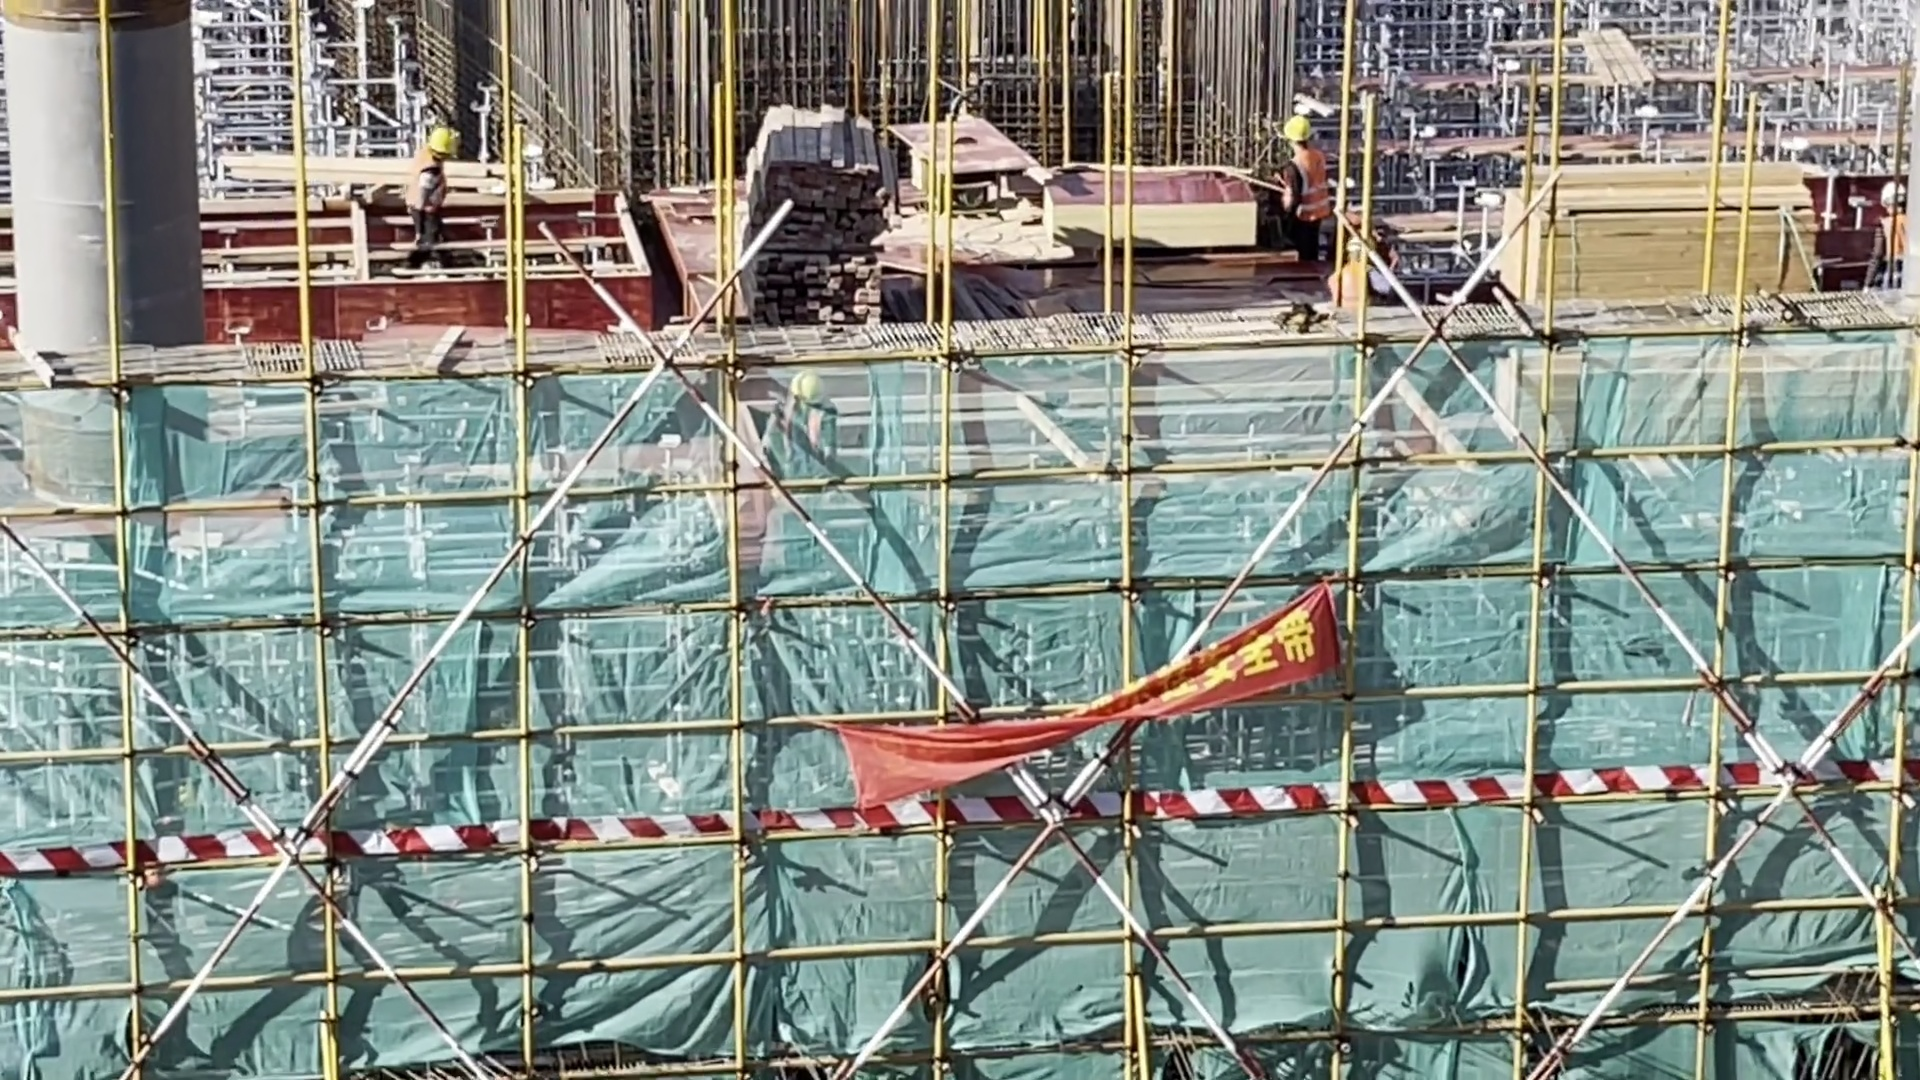helmet: (423, 113, 462, 161), (1281, 116, 1321, 149), (1874, 175, 1911, 208)
person: (396, 102, 473, 261), (1274, 109, 1352, 260), (1863, 176, 1920, 291)
vest: (1281, 142, 1337, 234), (401, 160, 460, 227), (1871, 209, 1912, 283)
